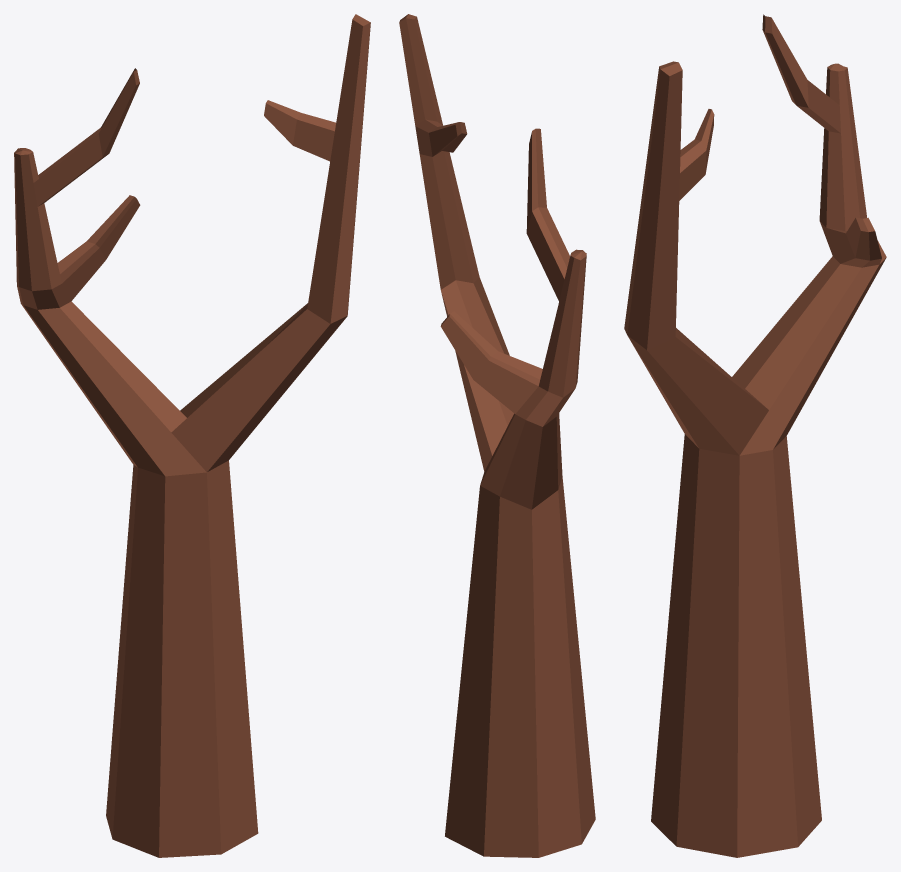
File: Tree_05_spring_mat.fbx
3 renders of one model, left to right at view 1: azimuth 30°, elevation 25°; view 2: azimuth 150°, elevation 25°; view 3: azimuth 270°, elevation 25°, orthographic. The views are drawn at different scales.
Visible parts, largest first — view 1: Tree_05_spring_mat; view 2: Tree_05_spring_mat; view 3: Tree_05_spring_mat.
Boxes of the visible parts, x1,y1,x2,y2 form: Tree_05_spring_mat: (14, 14, 370, 857); Tree_05_spring_mat: (399, 14, 595, 857); Tree_05_spring_mat: (624, 14, 886, 857).
Bounding box in the file's own units: 210 × 578 × 165.
